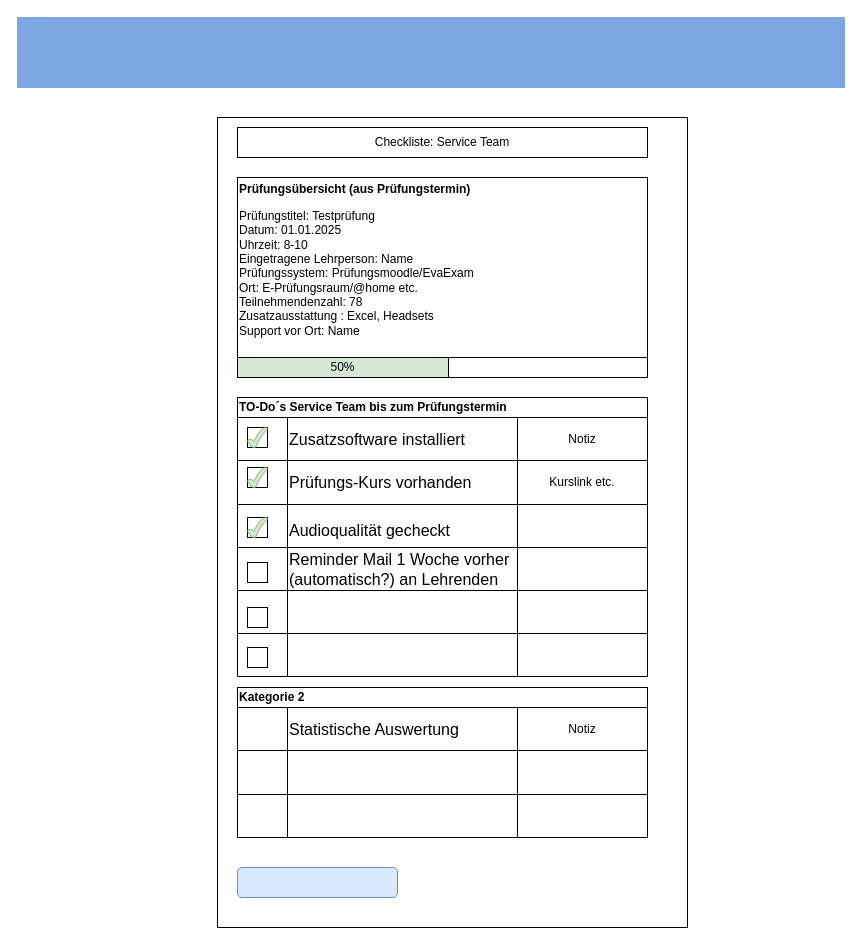
Some shapes in this 862 by 945 pixel diagram are drawn without their labels. Each missing label, with the centre of its shape:
"Export nach PDF/Excel/etc." goes at (x=317, y=882).
"Mockup Checkliste: SERVICE TEAM" goes at (x=430, y=52).
